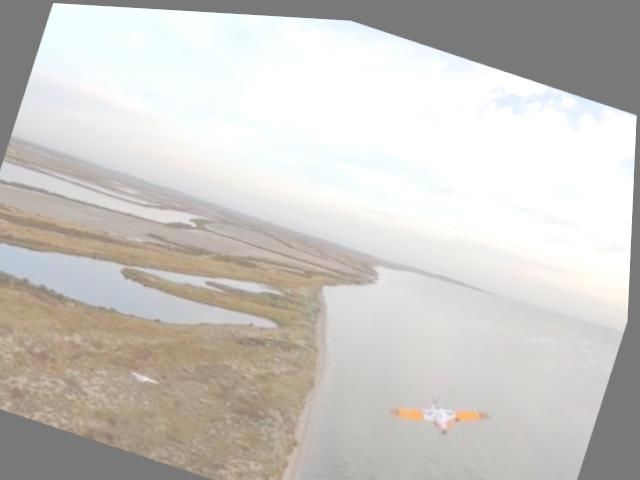uav: (388, 371, 498, 447)
